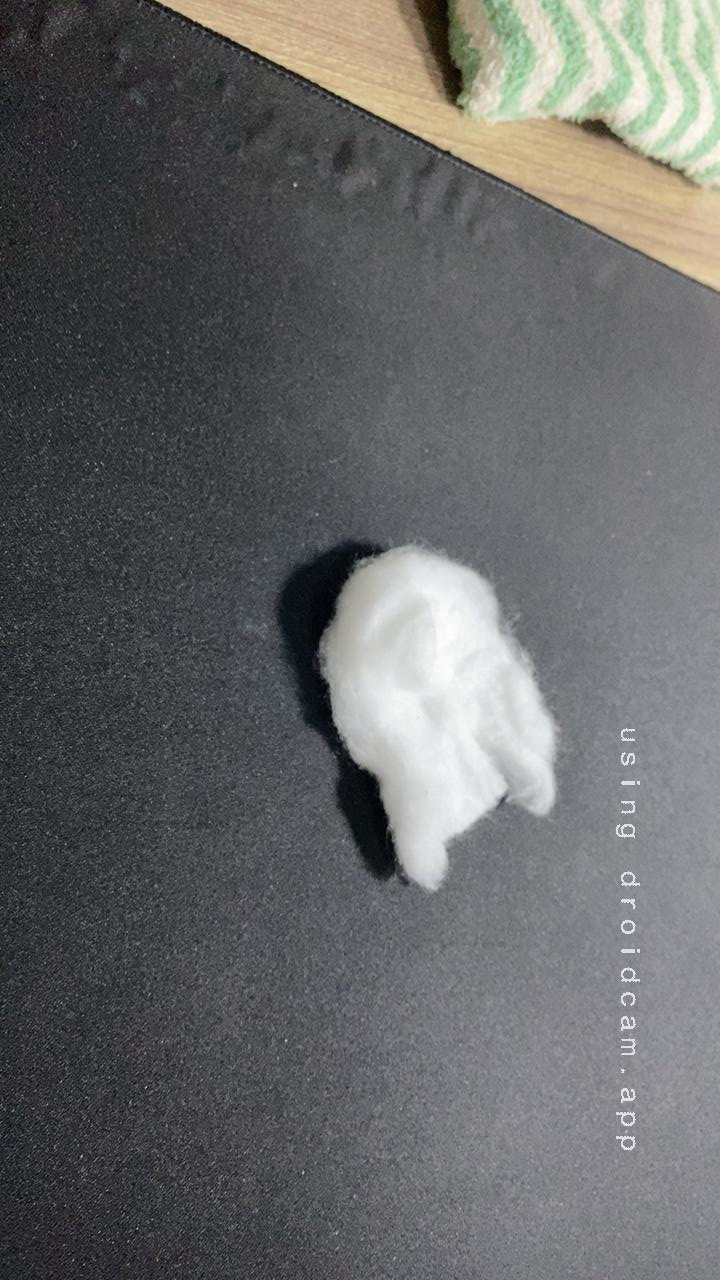cotton: (265, 526, 587, 924)
